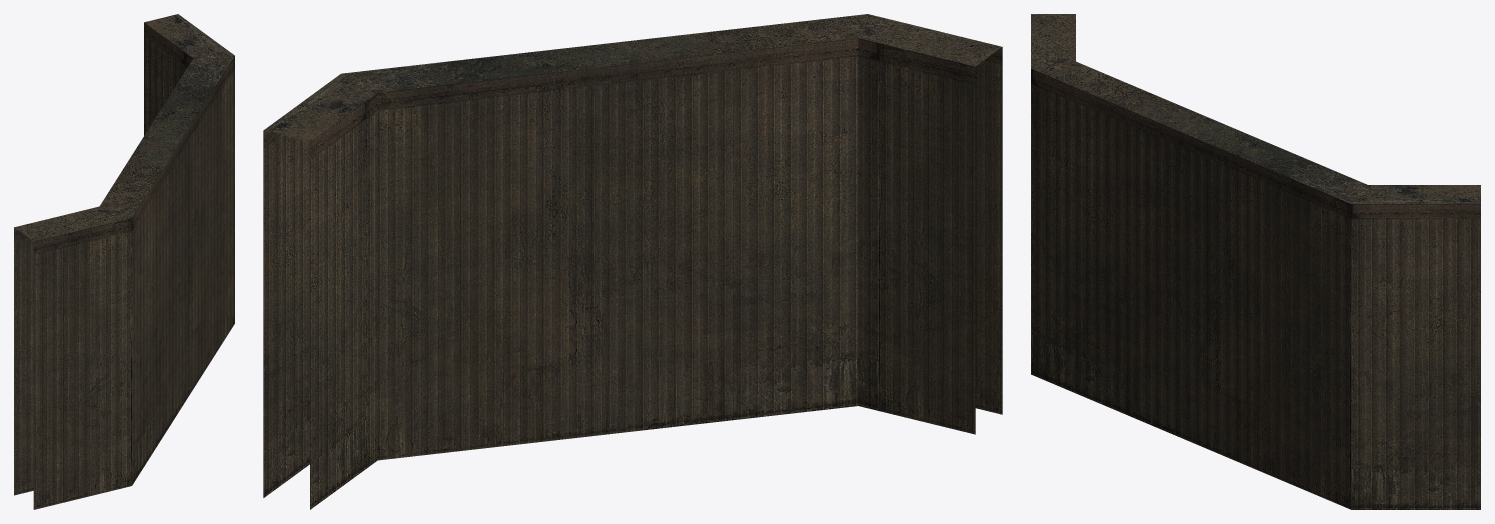
The model's file is wall_rx_1_m1a_1.glb.
3 renders of one model, left to right at view 1: azimuth 30°, elevation 25°; view 2: azimuth 150°, elevation 25°; view 3: azimuth 270°, elevation 25°, orthographic. The views are drawn at different scales.
Visible parts, largest first — view 1: wall_rx_1_m1a_1; view 2: wall_rx_1_m1a_1; view 3: wall_rx_1_m1a_1.
Part boxes in pixels (bbox=[...]): wall_rx_1_m1a_1: bbox=[14, 14, 234, 509]; wall_rx_1_m1a_1: bbox=[263, 14, 1002, 509]; wall_rx_1_m1a_1: bbox=[1031, 14, 1480, 509].
Size of the model in its own units: 4 by 3 by 4.
Materials: 2 (2 with a texture image).
